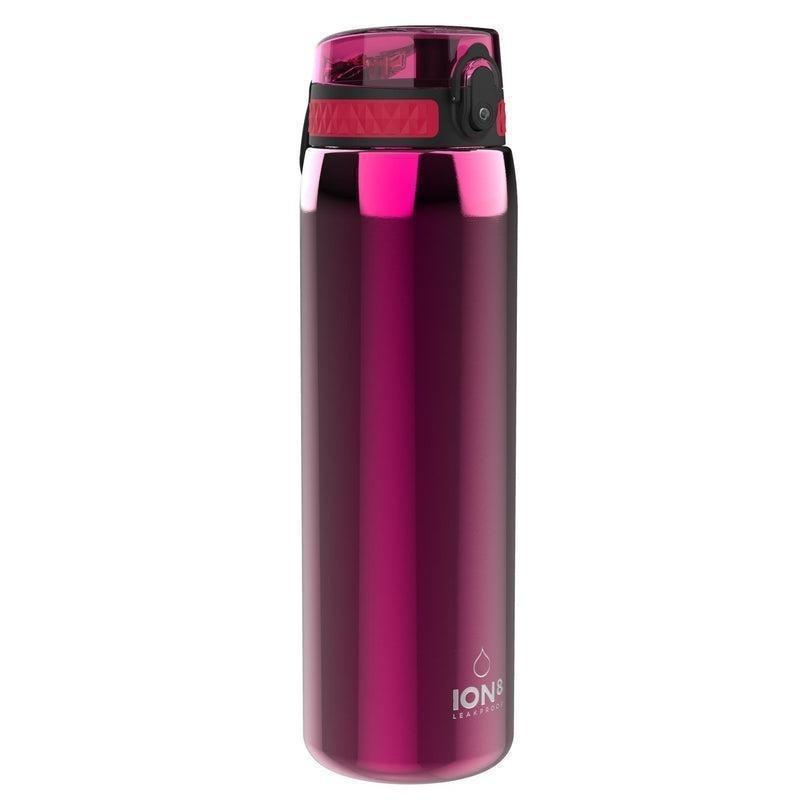gym bottle: (295, 12, 527, 795)
